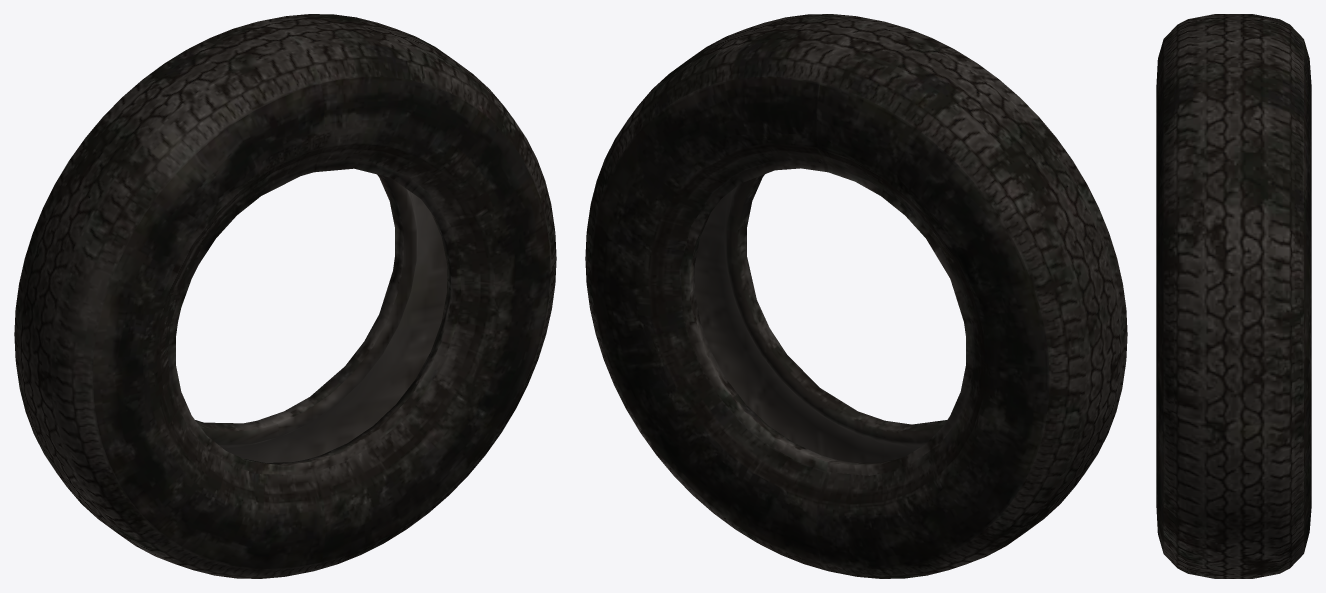
Rendered from tyre.glb.
The picture shows the model from 3 angles, left to right: view 1: azimuth 30°, elevation 25°; view 2: azimuth 150°, elevation 25°; view 3: azimuth 270°, elevation 25°; orthographic projection. The views are drawn at different scales.
Parts seen in each view (by area): view 1: old_tyre; view 2: old_tyre; view 3: old_tyre.
Part boxes in pixels (x1=…): old_tyre: x1=14, y1=14, x2=556, y2=578; old_tyre: x1=585, y1=14, x2=1127, y2=578; old_tyre: x1=1156, y1=14, x2=1311, y2=578.
Bounding box in the file's own units: 0.6 × 0.6 × 0.165.
Materials: 1 (1 with a texture image).
